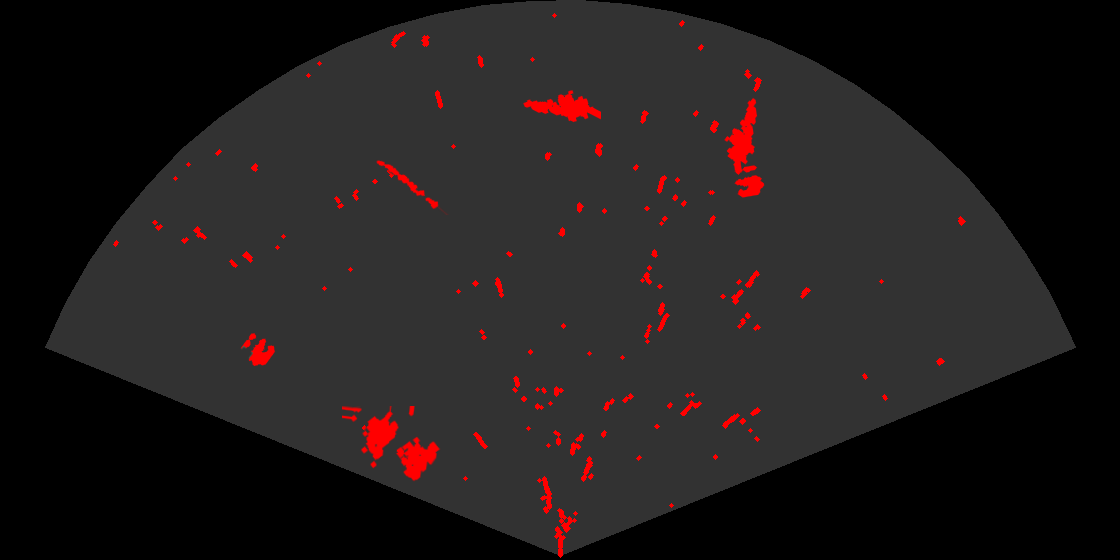ball: (239, 332, 277, 368), (733, 164, 766, 199)
cage: (342, 406, 442, 483)
chain: (375, 159, 449, 215)
frogman: (522, 89, 601, 124), (723, 96, 759, 170)
